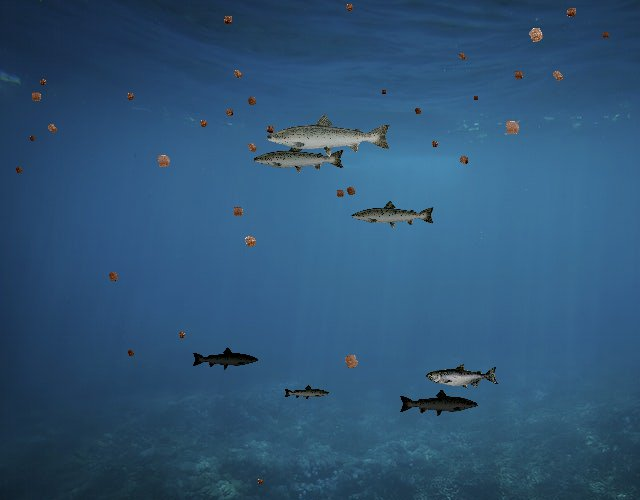Fish: (264, 112, 393, 158), (253, 141, 347, 175), (350, 199, 436, 230), (399, 389, 480, 418), (427, 363, 500, 389), (192, 346, 260, 370), (284, 384, 331, 401)
Pellet: (238, 229, 263, 254), (341, 0, 358, 16), (174, 328, 189, 343), (124, 346, 138, 360), (428, 137, 442, 151), (36, 75, 50, 89), (254, 476, 266, 488)
